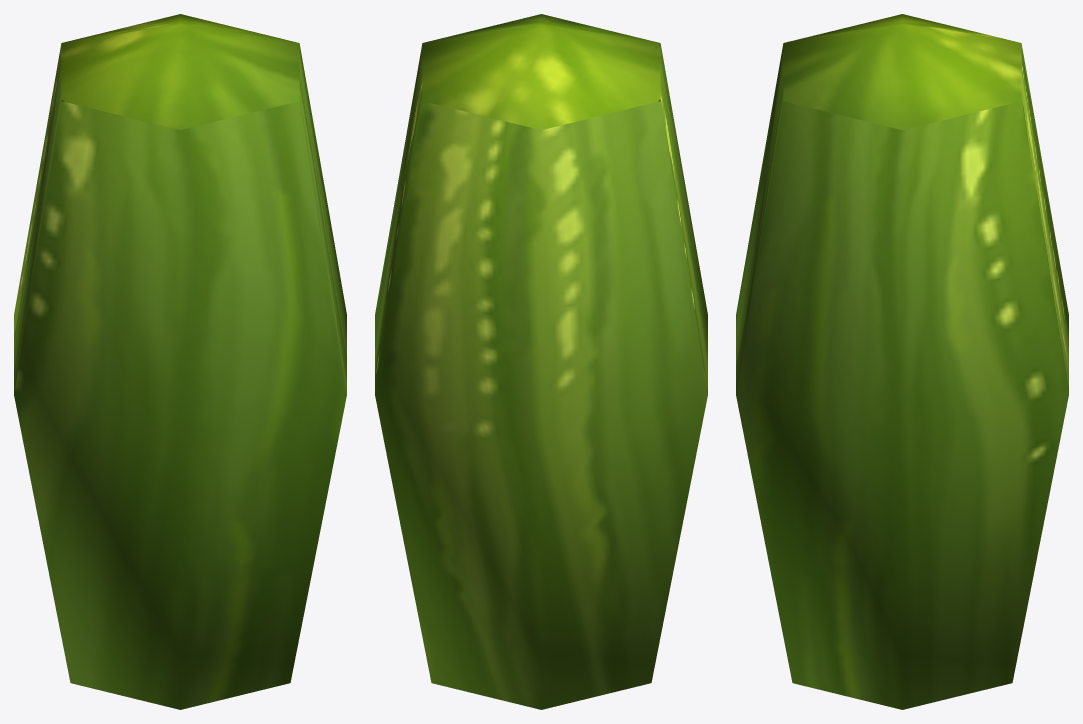
The model's file is Chapter1Scene1Model20.FBX.
The picture shows the model from 3 angles, left to right: view 1: azimuth 30°, elevation 25°; view 2: azimuth 150°, elevation 25°; view 3: azimuth 270°, elevation 25°; orthographic projection.
Parts seen in each view (by area): view 1: Chapter1Scene1Model20; view 2: Chapter1Scene1Model20; view 3: Chapter1Scene1Model20.
Part boxes in pixels (x1=…): Chapter1Scene1Model20: x1=14, y1=14, x2=346, y2=709; Chapter1Scene1Model20: x1=375, y1=14, x2=707, y2=709; Chapter1Scene1Model20: x1=736, y1=14, x2=1068, y2=709.
Bounding box in the file's own units: 39.55 × 34.25 × 76.6.
